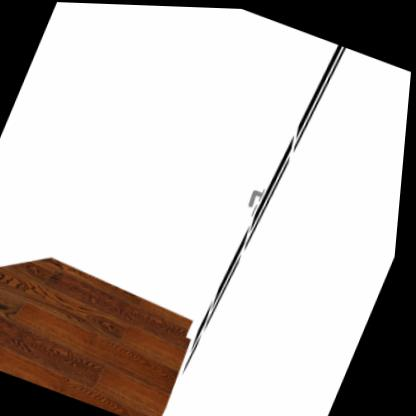Wooden floor: (0, 258, 197, 416)
